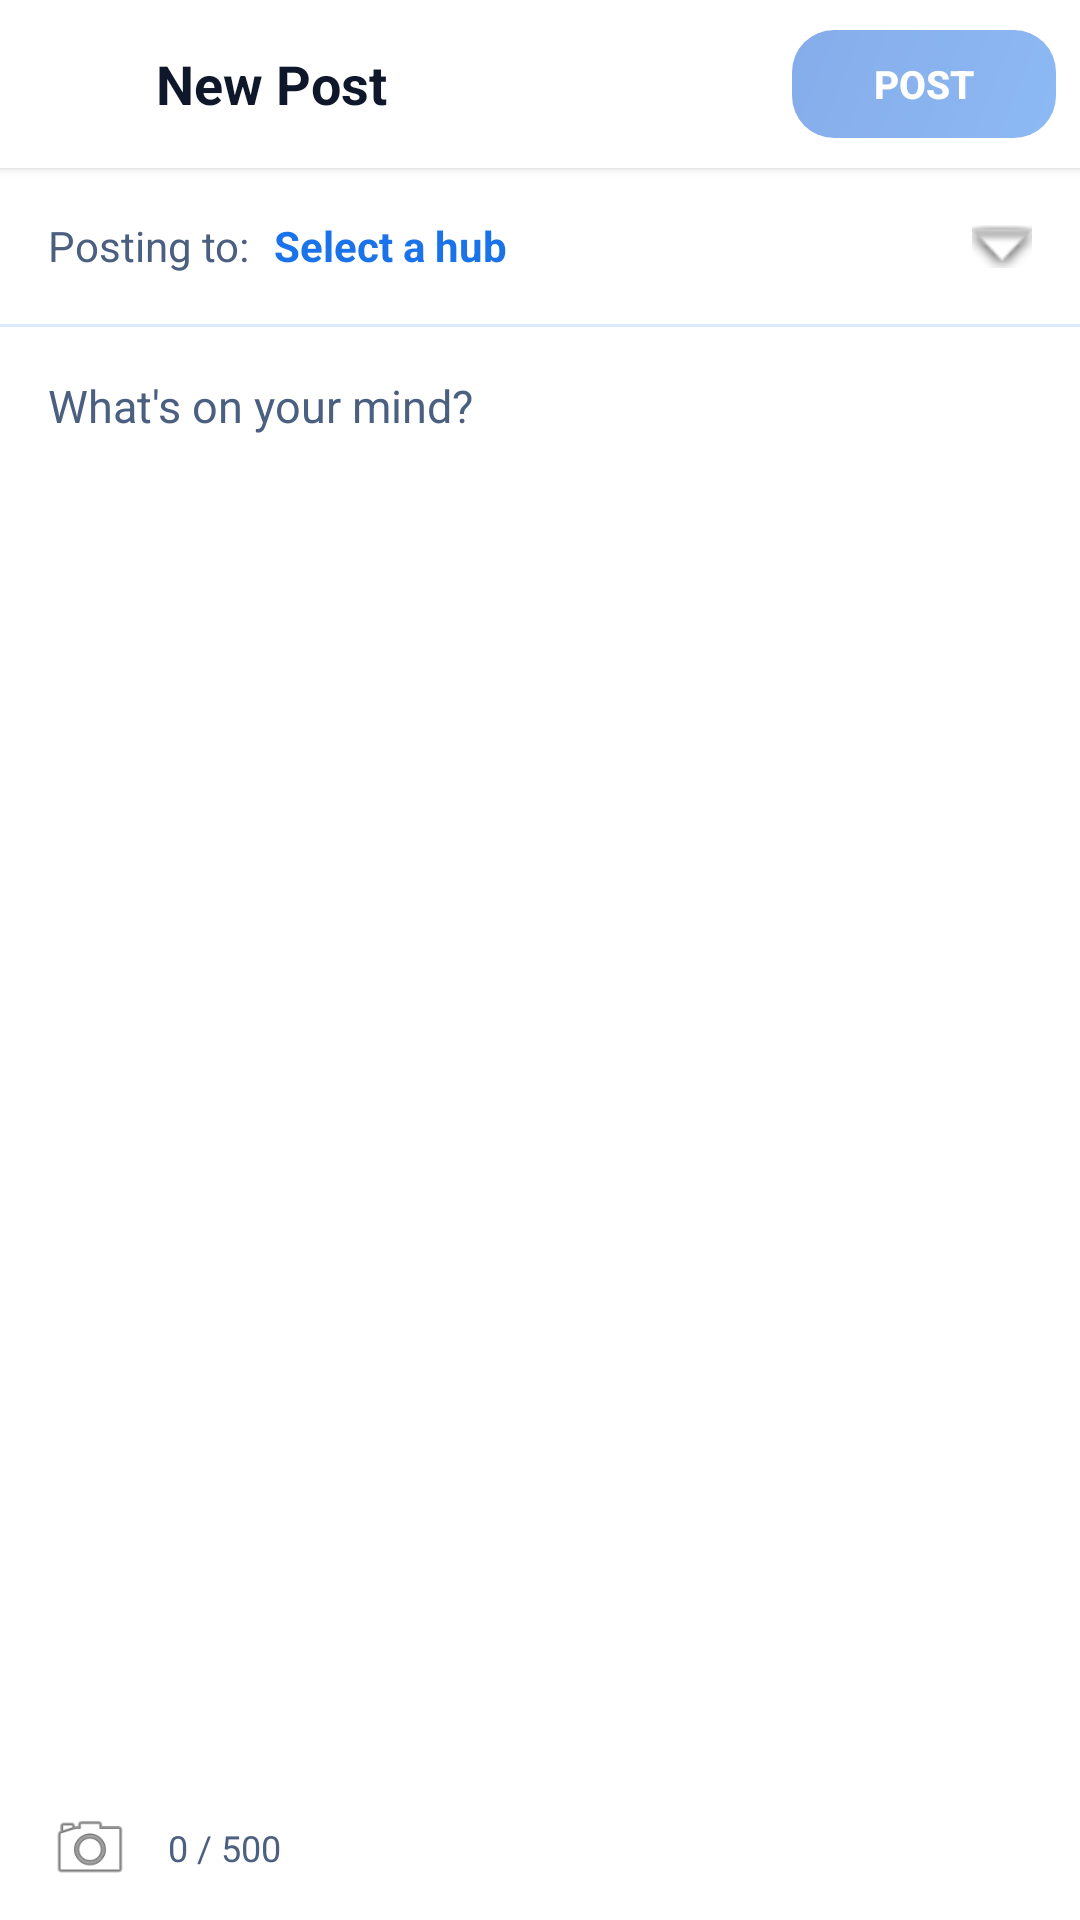

Where to tap for icons on this 1080 x 1920 app screen, as [x,y]:
Add photo or video: [90,1847]
